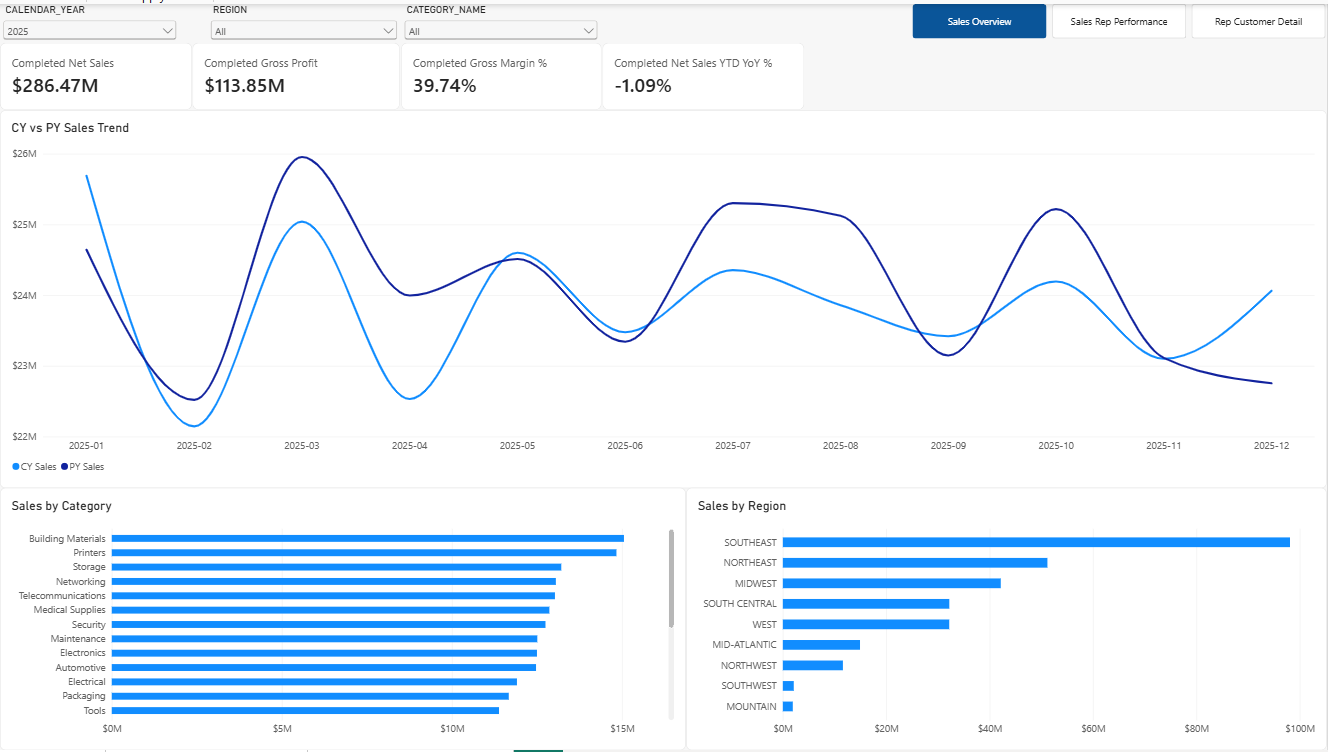

The dashboard page shown, as its layout file describes it:
{"tool":"powerbi","page":{"name":"Sales Overview","canvas":[1920,1080],"ordinal":0},"visuals":[{"type":"cardVisual","fields":{"Data":["FACT_SALES.Completed Net Sales"]},"box":[0,55.7,278.6,97.5],"z":1},{"type":"cardVisual","fields":{"Data":["FACT_SALES.Completed Gross Profit"]},"box":[278.6,55.7,300.5,97.5],"z":2},{"type":"cardVisual","fields":{"Data":["FACT_SALES.Completed Gross Margin %"]},"box":[581.1,55.7,290.5,97.5],"z":3},{"type":"cardVisual","fields":{"Data":["FACT_SALES.Completed Net Sales YTD YoY %"]},"box":[871.6,55.7,292.5,97.5],"z":4},{"type":"slicer","fields":{"Values":["DIM_DATE.CALENDAR_YEAR"]},"box":[0,0,260.2,110.8],"z":5},{"type":"slicer","fields":{"Values":["DIM_SALES_REP.REGION"]},"box":[301.2,0,279.5,110.8],"z":6},{"type":"slicer","fields":{"Values":["DIM_PRODUCT.CATEGORY_NAME"]},"box":[580.7,0,289.2,110.8],"z":7},{"type":"lineChart","title":"CY vs PY Sales Trend","fields":{"Category":["DIM_DATE.YEAR_MONTH"],"Y":["FACT_SALES.Completed Net Sales","FACT_SALES.Completed Net Sales PY"]},"box":[0,153.2,1920.4,547.3],"z":8},{"type":"clusteredBarChart","title":"Sales by Category","fields":{"Category":["DIM_PRODUCT.CATEGORY_NAME"],"Y":["FACT_SALES.Completed Net Sales"]},"box":[0,700.5,993,380.1],"z":9},{"type":"clusteredBarChart","title":"Sales by Region","fields":{"Category":["DIM_SALES_REP.REGION"],"Y":["FACT_SALES.Completed Net Sales"]},"box":[993,700.5,927.4,380.1],"z":10},{"type":"pageNavigator","box":[1321.4,0,600,50],"z":11}]}

Visuals, with their boxes in screenshot pixels (x1, y1, x2, y2), scaled from the page's 1920x1080 canvas onto the 1328x752 screenshot:
cardVisual - FACT_SALES.Completed Net Sales: 0,39,193,107
cardVisual - FACT_SALES.Completed Gross Profit: 193,39,401,107
cardVisual - FACT_SALES.Completed Gross Margin %: 402,39,603,107
cardVisual - FACT_SALES.Completed Net Sales YTD YoY %: 603,39,805,107
slicer - DIM_DATE.CALENDAR_YEAR: 0,0,180,77
slicer - DIM_SALES_REP.REGION: 208,0,402,77
slicer - DIM_PRODUCT.CATEGORY_NAME: 402,0,602,77
"CY vs PY Sales Trend" lineChart: 0,107,1327,488
"Sales by Category" clusteredBarChart: 0,488,687,751
"Sales by Region" clusteredBarChart: 687,488,1327,751
pageNavigator: 914,0,1327,35
